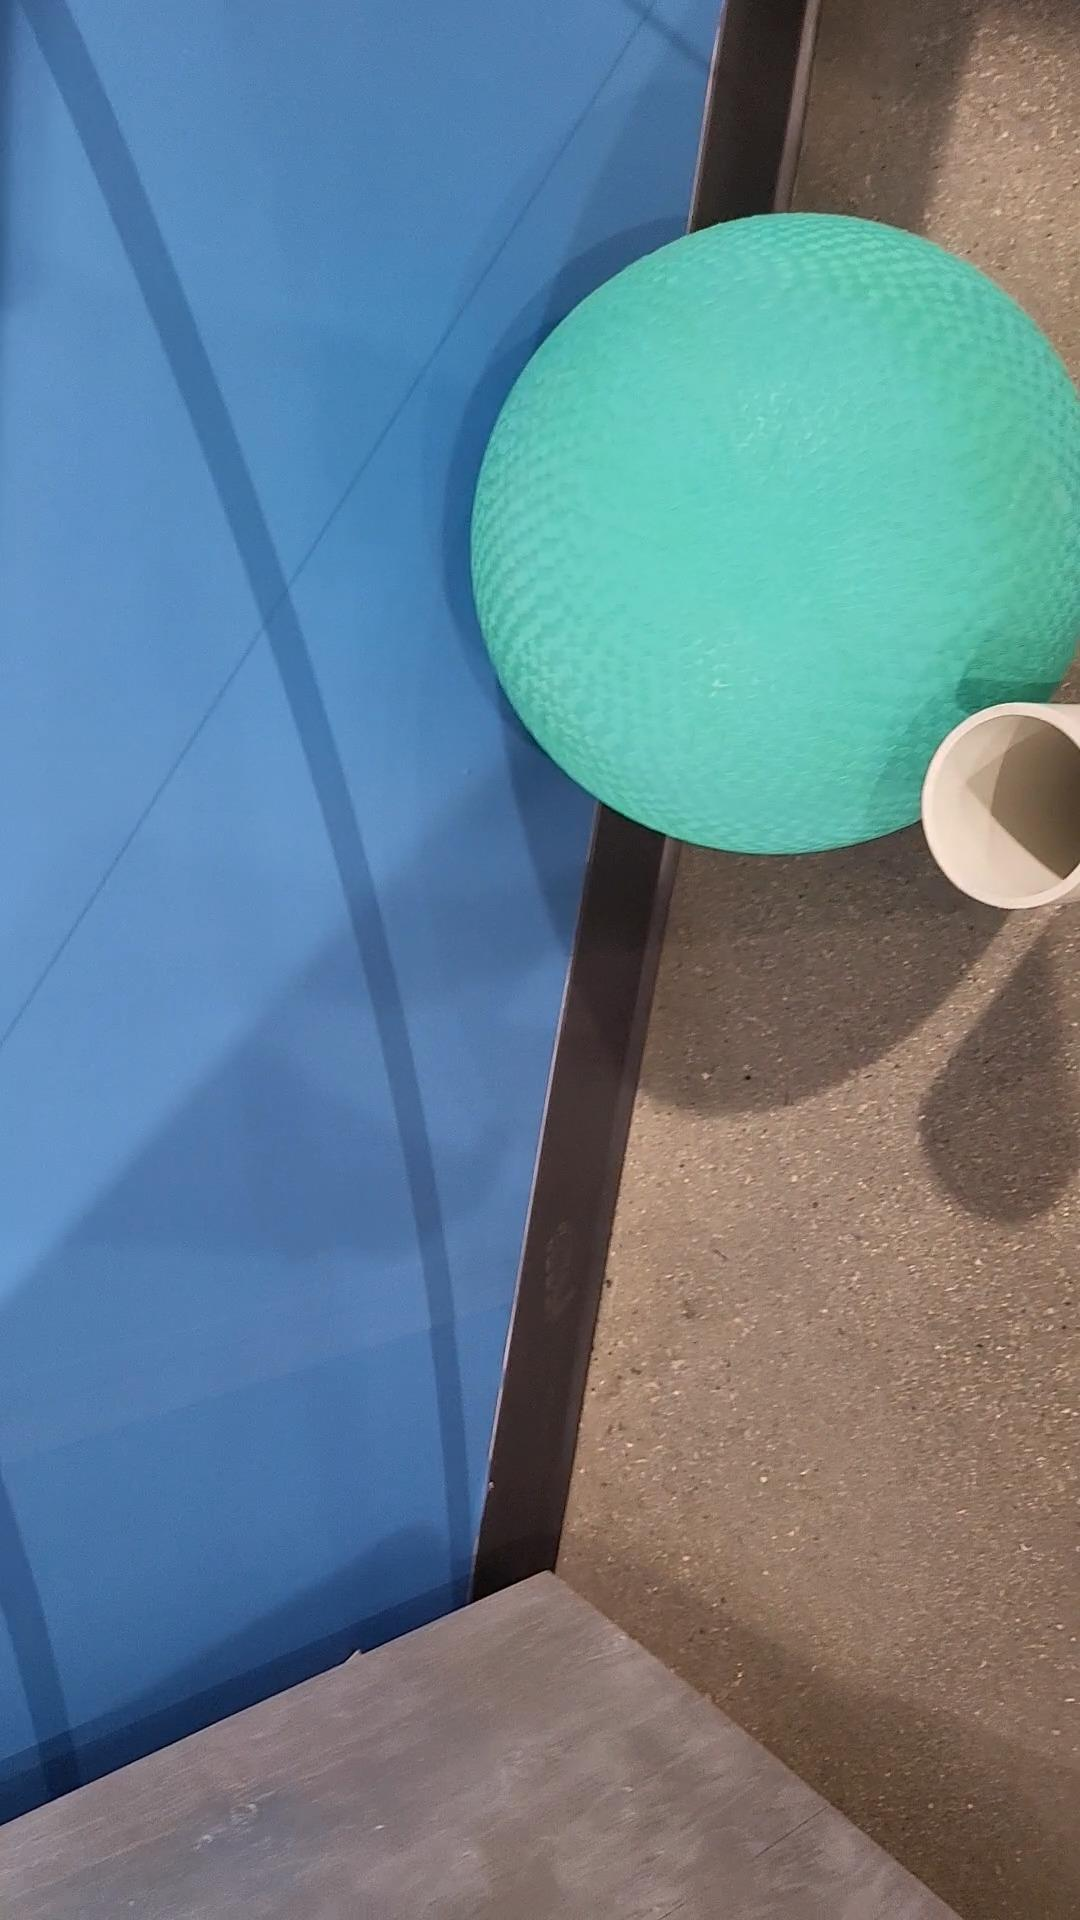algae: (472, 212, 1080, 852)
coral: (918, 705, 1079, 910)
